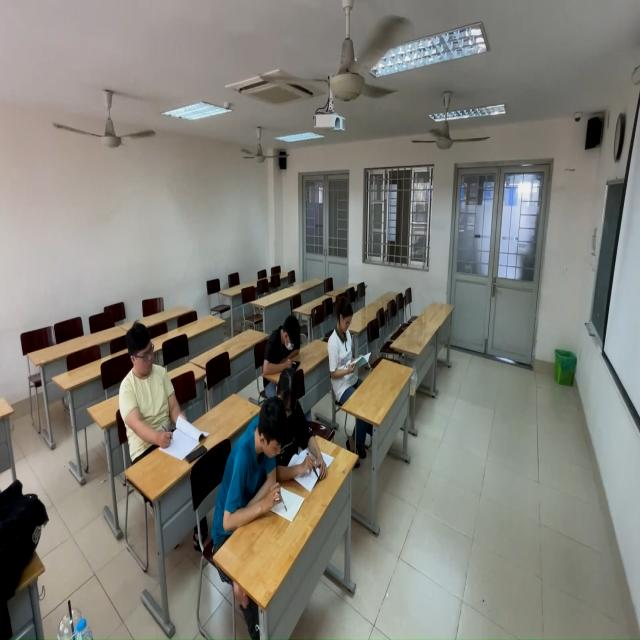read: (120, 319, 212, 458), (222, 394, 294, 539), (264, 360, 327, 487), (327, 292, 380, 403), (263, 313, 306, 380)
